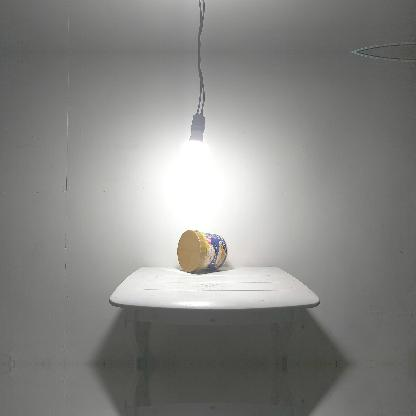Lady-s-Choice: (176, 227, 228, 273)
